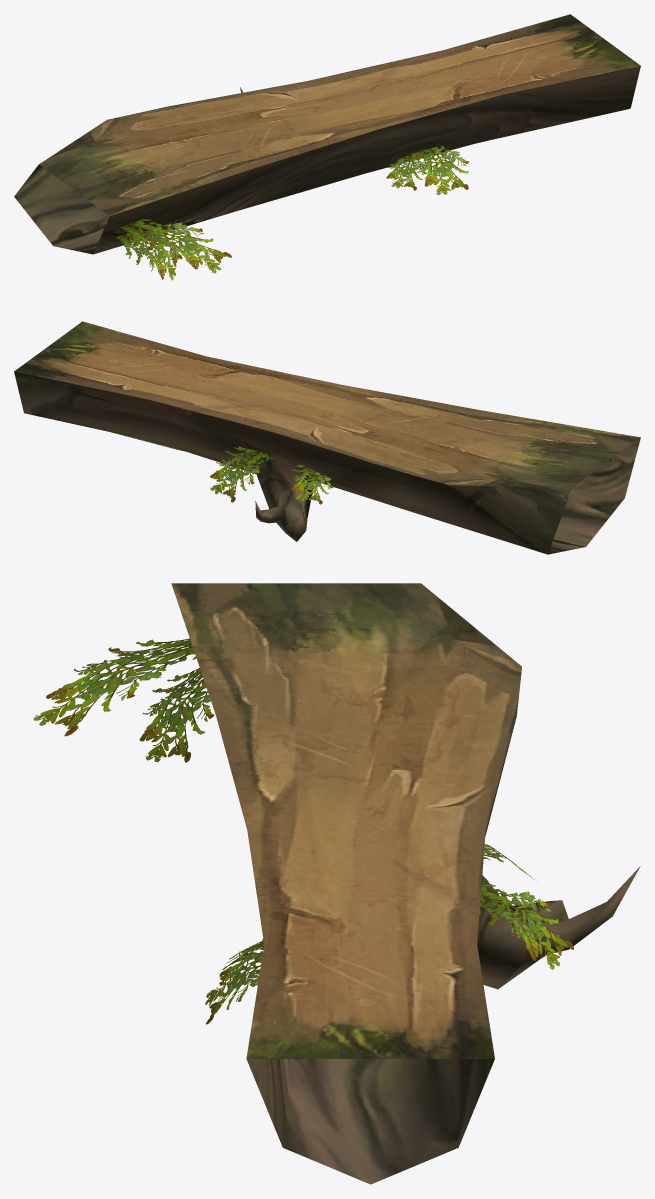
The model's file is gjs_qiao01.FBX.
The picture shows the model from 3 angles, top to bottom: view 1: azimuth 30°, elevation 25°; view 2: azimuth 150°, elevation 25°; view 3: azimuth 270°, elevation 25°; orthographic projection. The views are drawn at different scales.
Visible parts, largest first — view 1: Cylinder02, Plane33, Plane31, Plane34, Plane32; view 2: Cylinder02, Plane30, Plane29; view 3: Cylinder02, Plane33, Plane34, Plane30, Plane31.
Boxes of the visible parts, left/top/right/bottom form: Cylinder02: left=14, top=14, right=640, bottom=254; Plane33: left=119, top=219, right=231, bottom=273; Plane31: left=407, top=145, right=468, bottom=194; Plane34: left=116, top=230, right=182, bottom=280; Plane32: left=386, top=151, right=427, bottom=190; Cylinder02: left=14, top=321, right=640, bottom=554; Plane30: left=210, top=446, right=275, bottom=502; Plane29: left=291, top=464, right=333, bottom=504; Cylinder02: left=171, top=583, right=640, bottom=1184; Plane33: left=33, top=638, right=196, bottom=736; Plane34: left=139, top=668, right=214, bottom=762; Plane30: left=479, top=877, right=573, bottom=969; Plane31: left=205, top=938, right=264, bottom=1024.
Bounding box in the file's own units: 1207 × 202 × 670.
